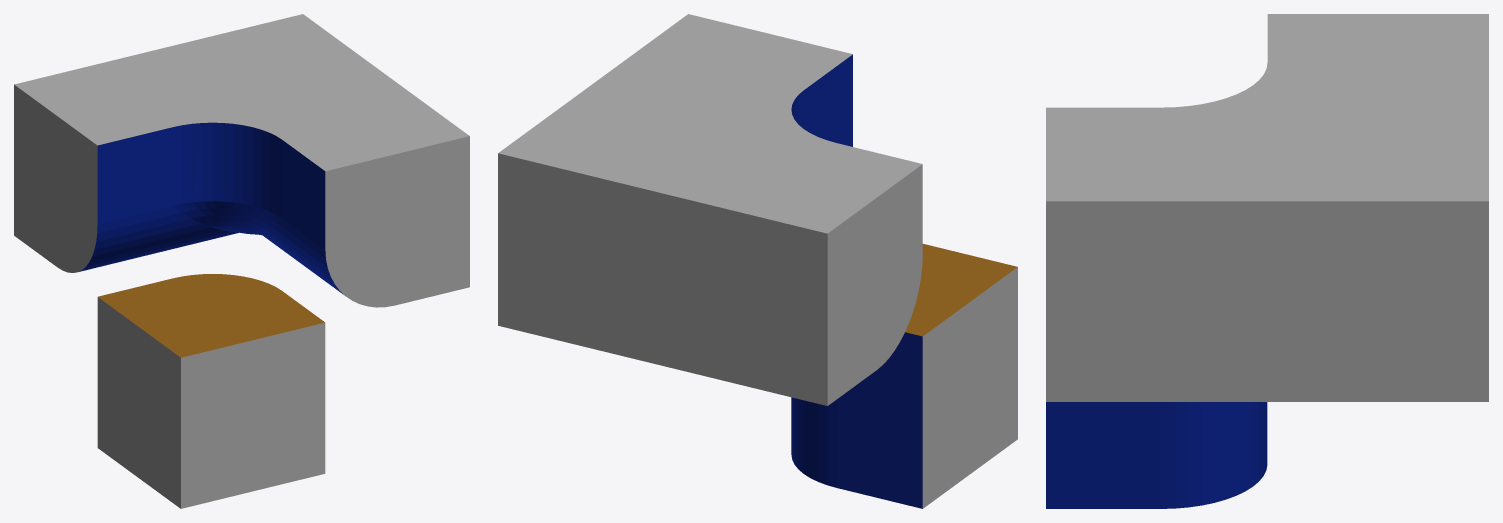
File: case_120.fbx
3 renders of one model, left to right at view 1: azimuth 30°, elevation 25°; view 2: azimuth 150°, elevation 25°; view 3: azimuth 270°, elevation 25°, orthographic. The views are drawn at different scales.
Visible parts, largest first — view 1: case_120; view 2: case_120; view 3: case_120.
Part boxes in pixels (x1,y1,x2,y2): case_120: (14,14,469,508); case_120: (498,14,1017,508); case_120: (1046,14,1488,508).
Bounding box in the file's own units: 1 × 1 × 1.
